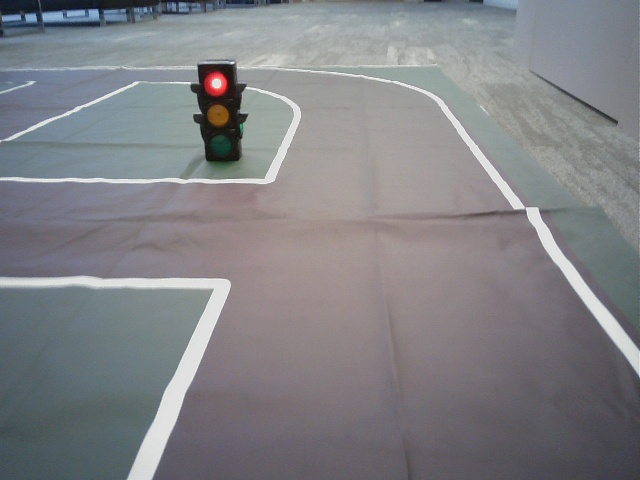red: (200, 66, 234, 156)
